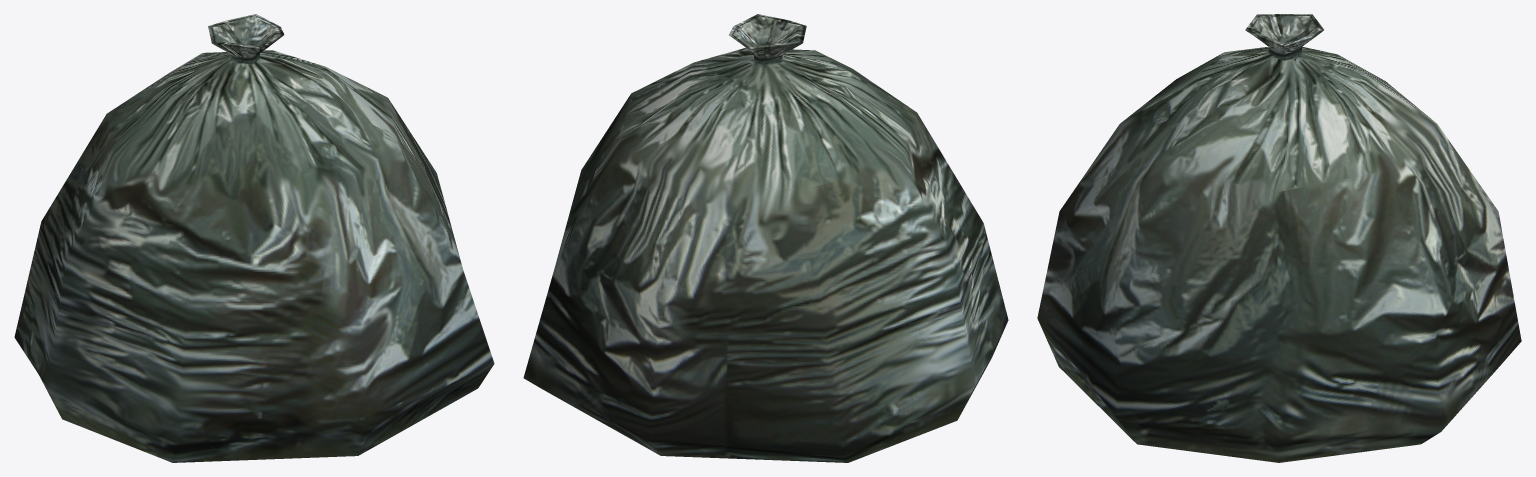
The model's file is TrashBag1.fbx.
3 renders of one model, left to right at view 1: azimuth 30°, elevation 25°; view 2: azimuth 150°, elevation 25°; view 3: azimuth 270°, elevation 25°, orthographic.
Parts seen in each view (by area): view 1: TrashBag1 (2); view 2: TrashBag1 (2); view 3: TrashBag1 (2).
Boxes of the visible parts, bbox=[...] form: TrashBag1 (2): bbox=[14, 14, 494, 462]; TrashBag1 (2): bbox=[523, 14, 1008, 462]; TrashBag1 (2): bbox=[1037, 14, 1521, 462].
Size of the model in its own units: 91.03 by 71.78 by 92.33.
